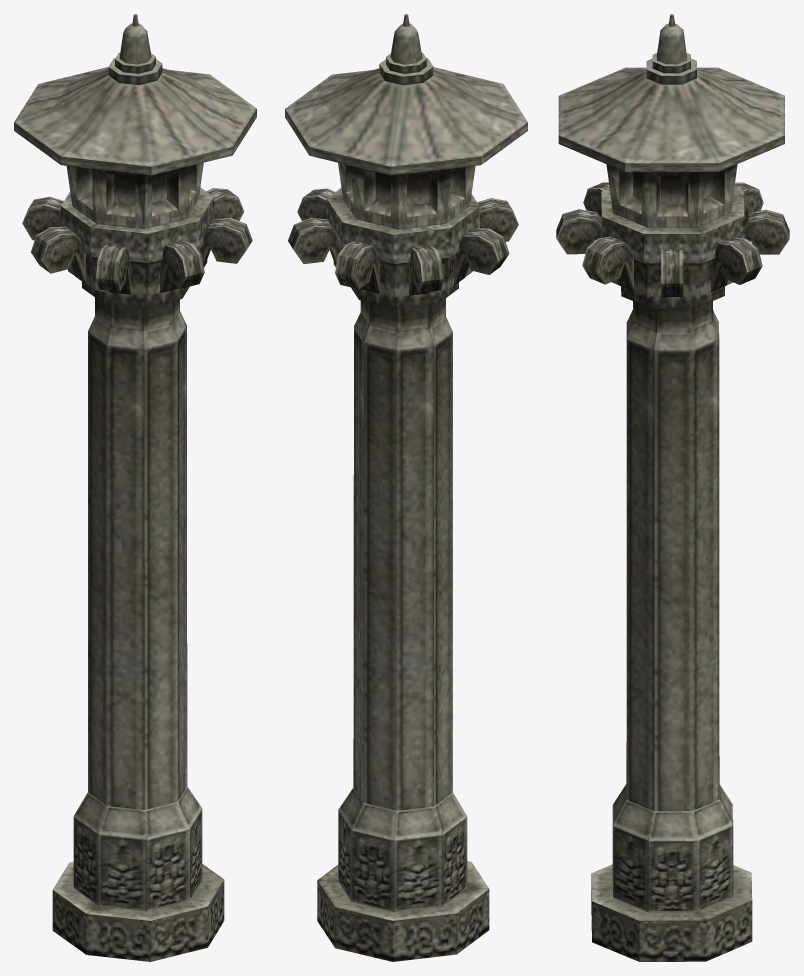
3 renders of one model, left to right at view 1: azimuth 30°, elevation 25°; view 2: azimuth 150°, elevation 25°; view 3: azimuth 270°, elevation 25°, orthographic.
Visible parts, largest first — view 1: Cone20; view 2: Cone20; view 3: Cone20.
Part boxes in pixels (x1,y1,x2,y2): Cone20: (14, 14, 256, 961); Cone20: (285, 14, 527, 961); Cone20: (556, 14, 789, 961).
Size of the model in its own units: 205 by 885 by 205.
